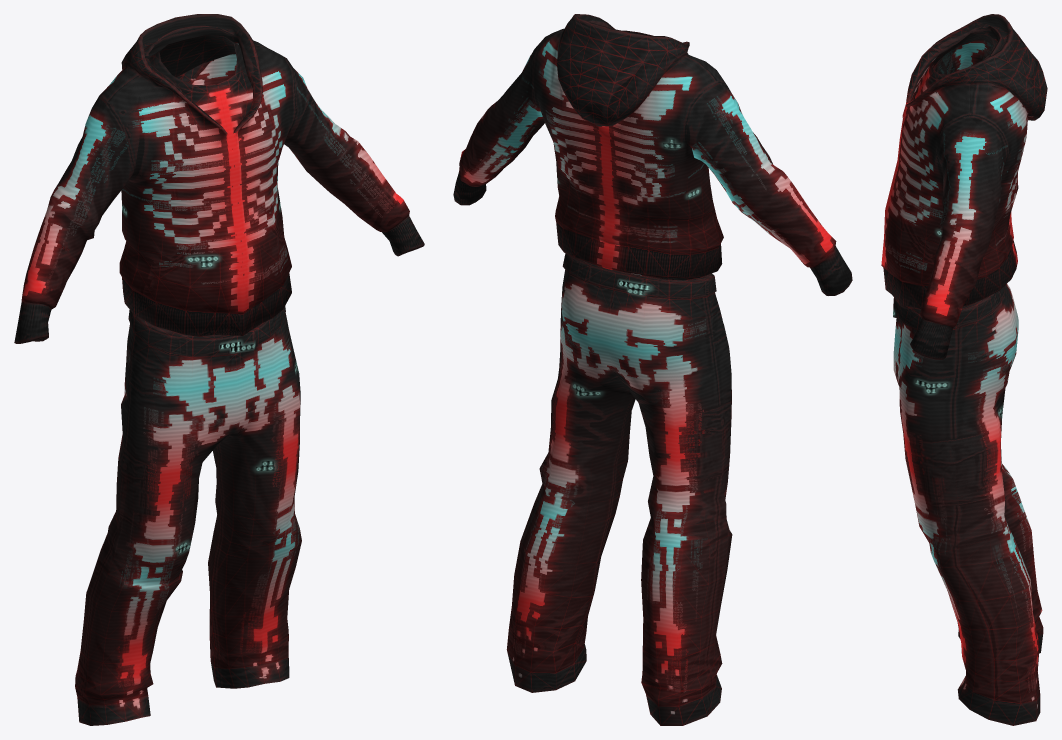
File: corrupted_hoodie_and_pants.glb
The picture shows the model from 3 angles, left to right: view 1: azimuth 30°, elevation 25°; view 2: azimuth 150°, elevation 25°; view 3: azimuth 270°, elevation 25°; orthographic projection. The views are drawn at different scales.
Parts seen in each view (by area): view 1: Object_2, Object_3; view 2: Object_3, Object_2; view 3: Object_3, Object_2.
Boxes of the visible parts, <box> form: Object_2: <box>14,14,424,343</box>; Object_3: <box>75,306,301,725</box>; Object_3: <box>506,253,732,725</box>; Object_2: <box>453,14,852,295</box>; Object_3: <box>893,284,1043,725</box>; Object_2: <box>881,14,1047,359</box>.
Bounding box in the file's own units: 9.75 × 15.79 × 3.64.
2 materials, 2 textured.
